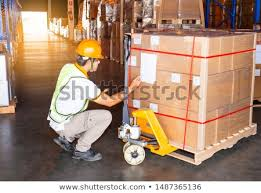Pallet Jack: (117, 35, 257, 172)
